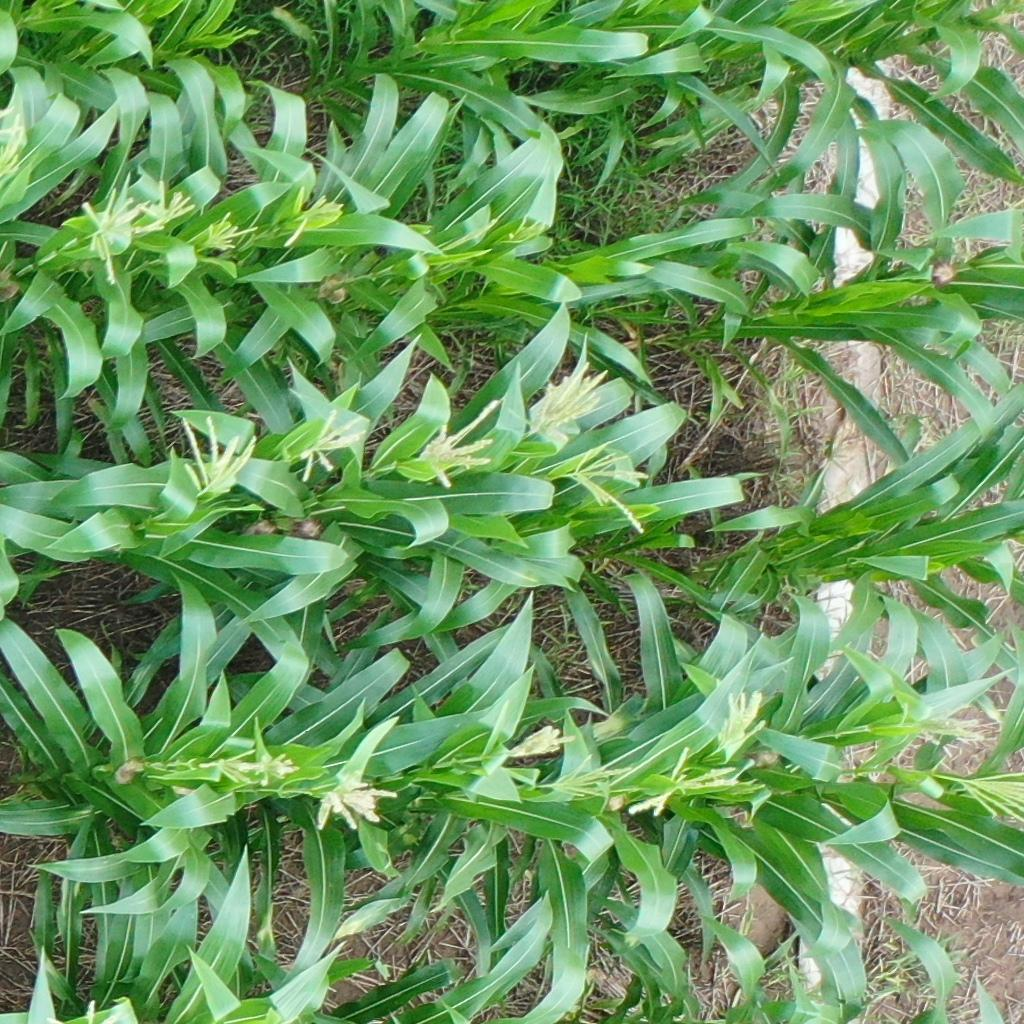Tassel: (414, 397, 502, 494), (562, 441, 650, 535), (630, 746, 738, 819), (174, 415, 260, 497), (79, 188, 149, 285), (299, 408, 368, 487), (535, 360, 608, 432), (313, 779, 398, 833), (545, 755, 633, 804), (902, 704, 984, 750), (134, 181, 197, 238), (712, 691, 770, 752), (962, 770, 1023, 824), (500, 725, 578, 760), (234, 751, 300, 787), (204, 212, 258, 255), (1, 114, 27, 175), (297, 195, 346, 224), (509, 217, 545, 242)
